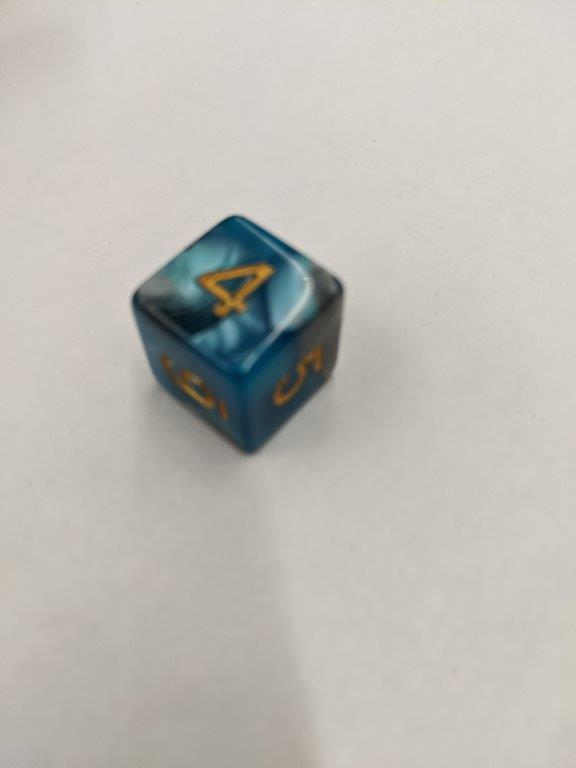d6-4: (131, 209, 347, 454)
